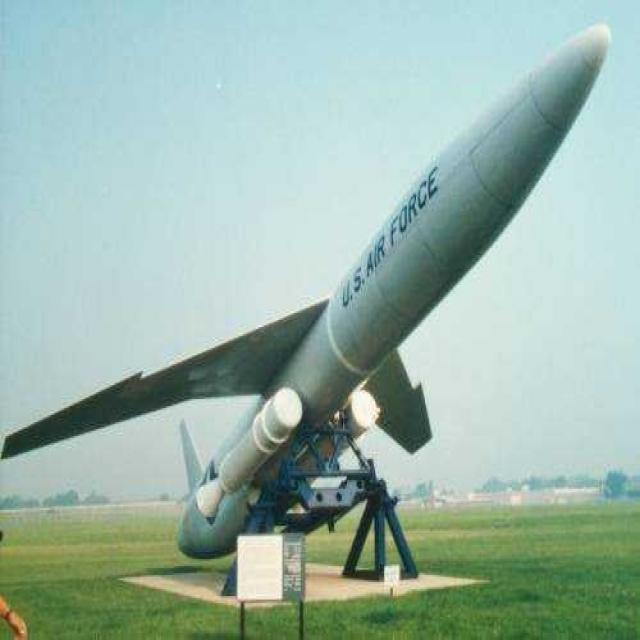missile: (1, 19, 617, 640)
